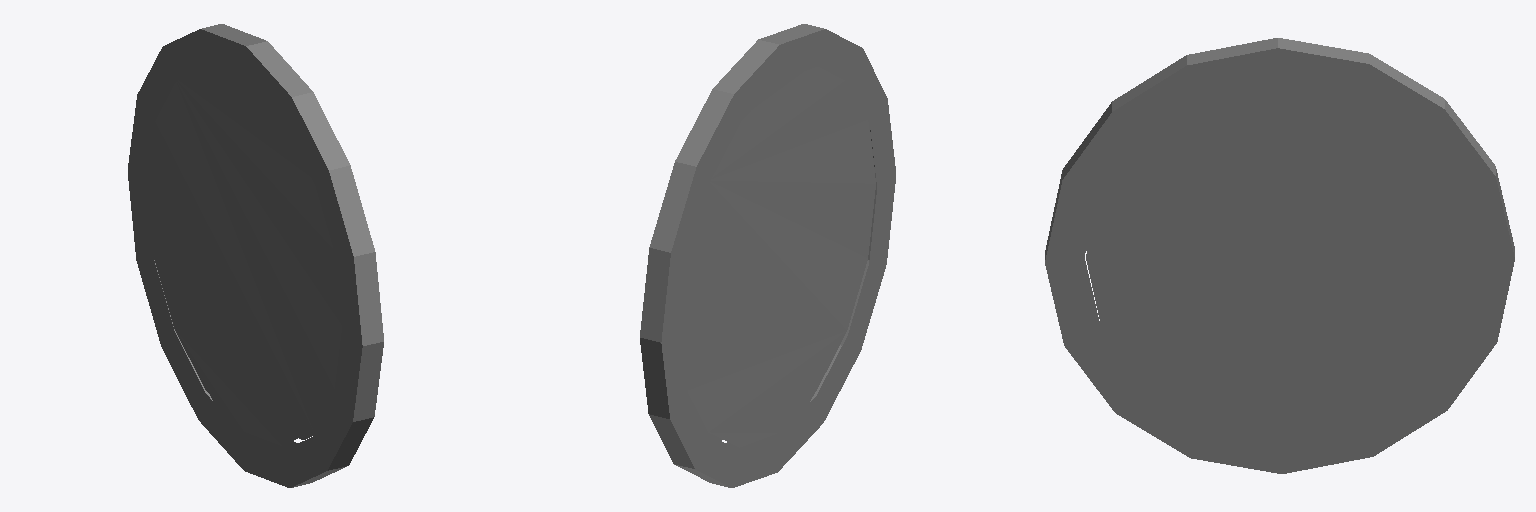
Rendered from front.obj.
3 renders of one model, left to right at view 1: azimuth 30°, elevation 25°; view 2: azimuth 150°, elevation 25°; view 3: azimuth 270°, elevation 25°, orthographic.
Parts seen in each view (by area): view 1: front; view 2: front; view 3: front.
Part boxes in pixels (left/top/right/bottom): front: left=128, top=24, right=383, bottom=487; front: left=640, top=24, right=895, bottom=487; front: left=1045, top=38, right=1514, bottom=473.
Bounding box in the file's own units: 0.0504 × 0.9389 × 0.9388.